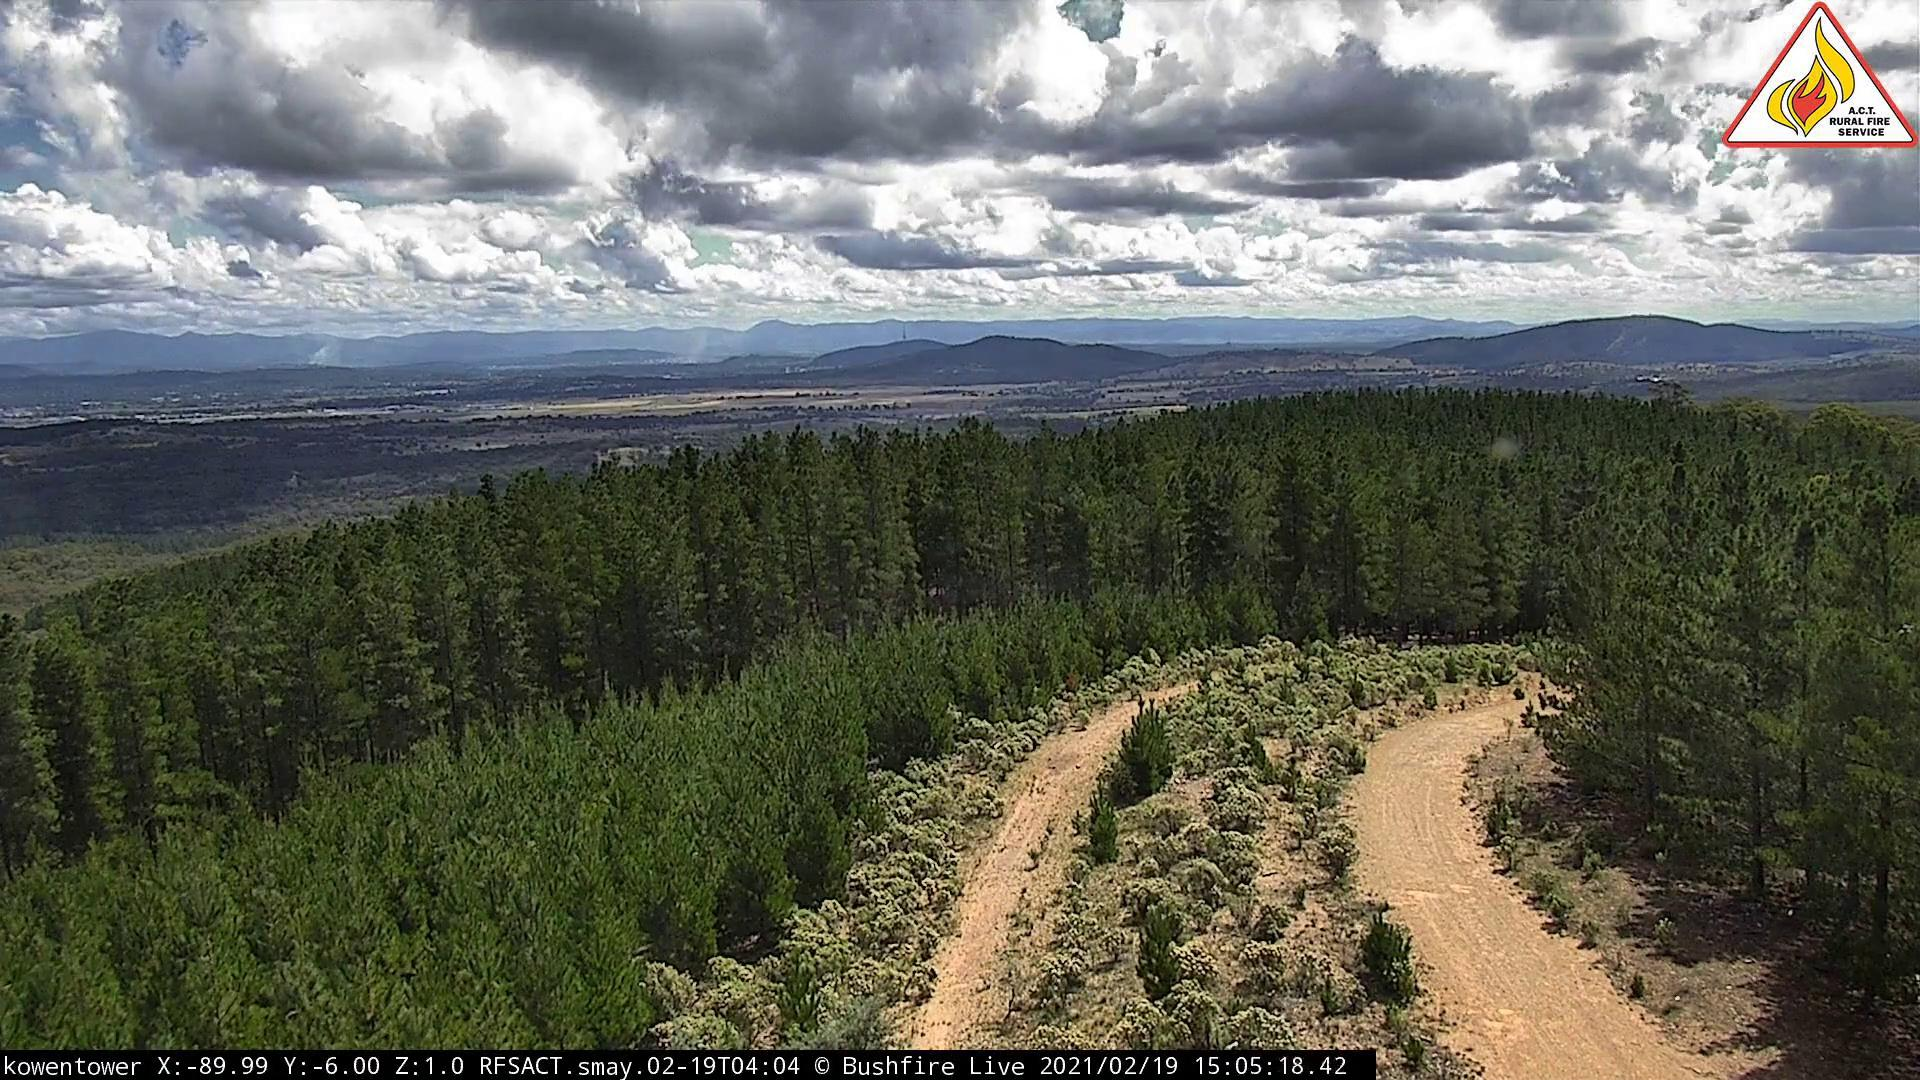Smoke: (301, 335, 367, 375), (653, 331, 723, 367)
